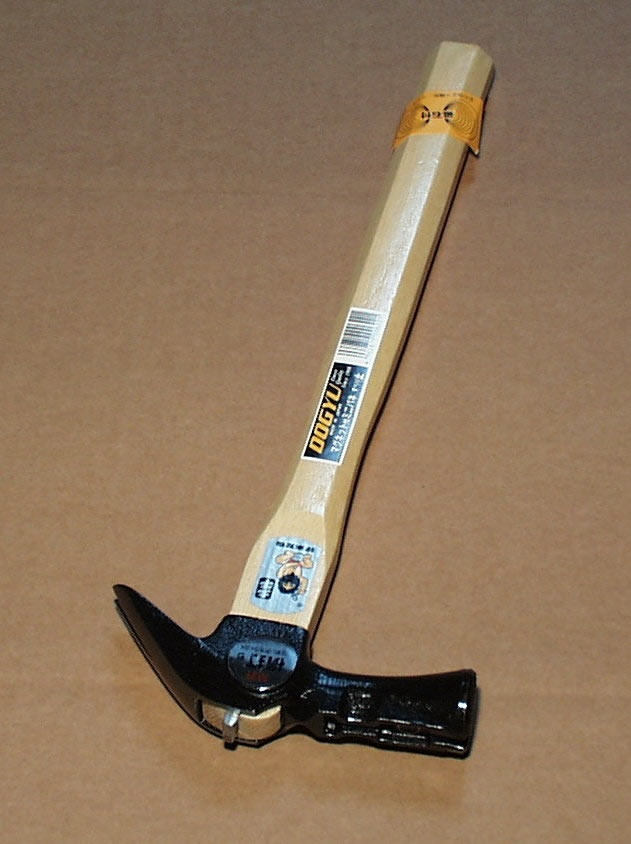hammer: (118, 34, 492, 763)
